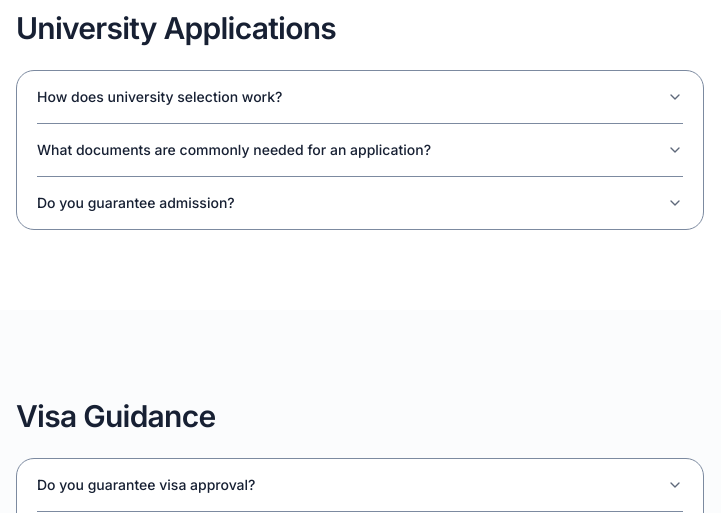
FaqPage › supports keyboard-accessible accordion expansion
(page scrolled)
What coordinates should you click on to do the following:
click the button "Do you guarantee admission?"
I would click on:
 (136, 202)
Its box is [37, 177, 683, 229].
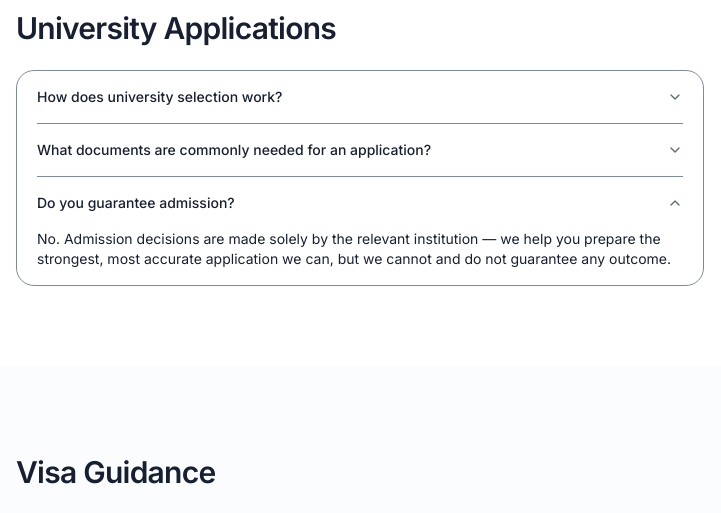
Result: the button "Do you guarantee admission?" is expanded at [37, 177, 683, 229]
